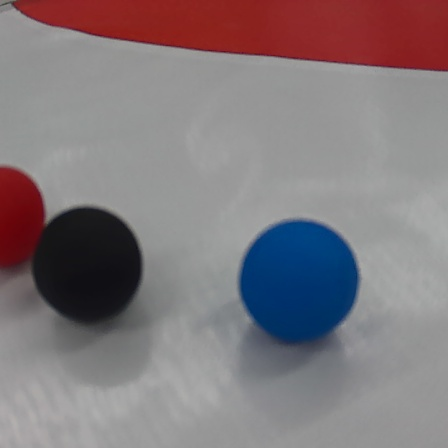black: (34, 203, 147, 324)
blue: (237, 216, 363, 343)
red: (0, 162, 47, 271)
red_base: (13, 1, 448, 73)
